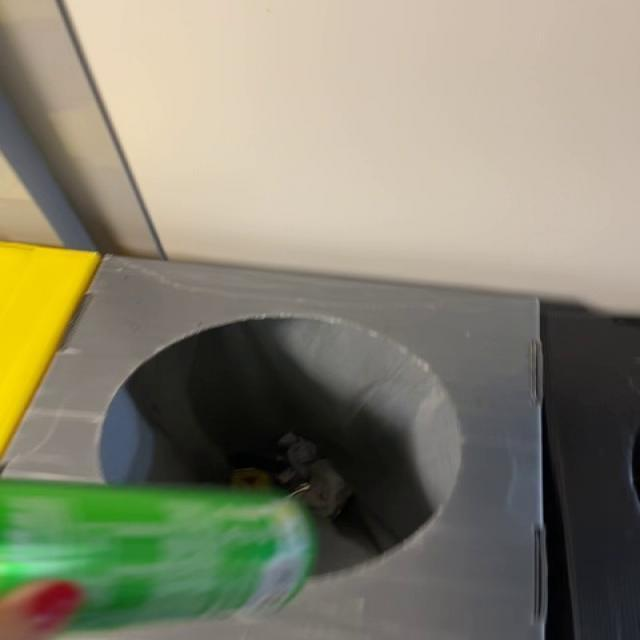Bin: (3, 257, 548, 640)
Metal: (1, 481, 316, 632)
